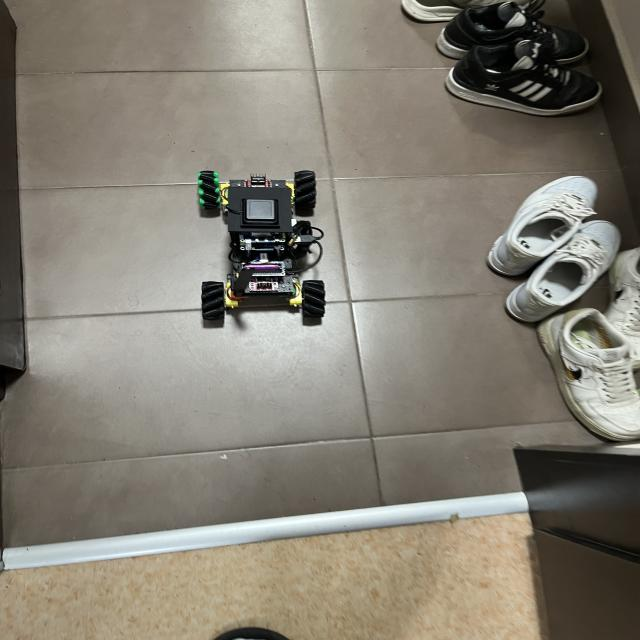robot: (198, 171, 326, 320)
